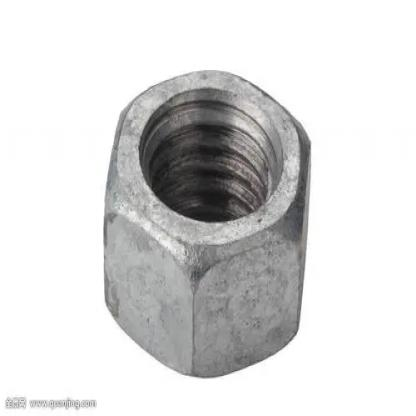FOD: (86, 49, 322, 390)
